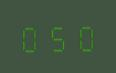five: (45, 20, 70, 52)
zero: (18, 20, 43, 53), (71, 19, 96, 52)
